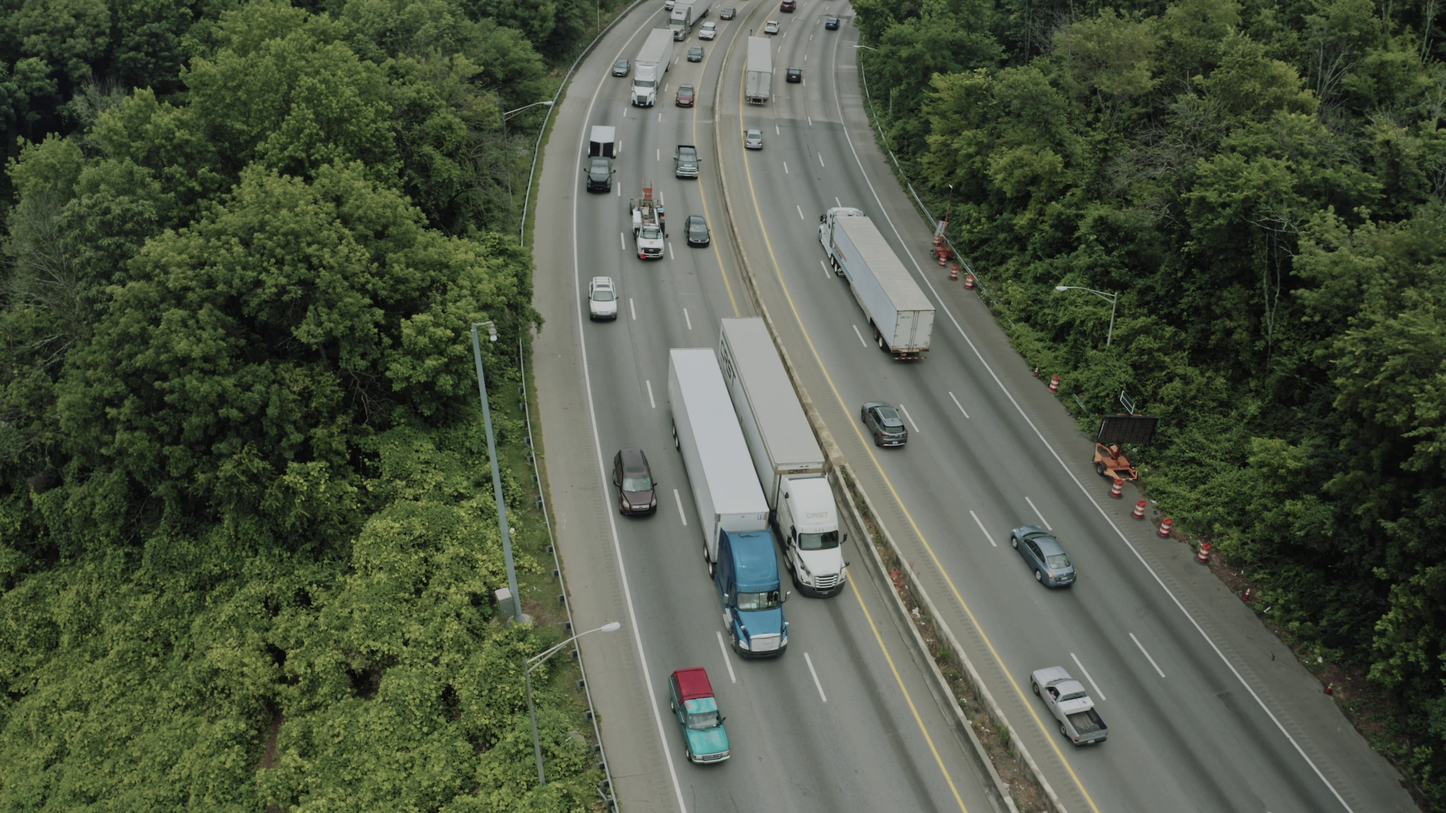Vehicle: (709, 528, 791, 660), (778, 471, 855, 600), (1029, 665, 1109, 747), (1029, 666, 1109, 747), (668, 667, 731, 765), (1010, 524, 1077, 589), (818, 207, 875, 272), (612, 447, 657, 516), (627, 188, 669, 260), (861, 401, 917, 452), (630, 62, 662, 107), (588, 277, 619, 321), (586, 156, 614, 193), (673, 145, 702, 179), (588, 125, 617, 159), (668, 4, 693, 43), (684, 215, 710, 248), (675, 84, 695, 108), (743, 129, 764, 150), (698, 21, 717, 41), (687, 46, 705, 62), (786, 67, 802, 83), (612, 60, 627, 77), (764, 20, 780, 35), (720, 6, 736, 20), (780, 0, 796, 13), (825, 18, 840, 30), (1205, 542, 1212, 563), (664, 0, 676, 11)
